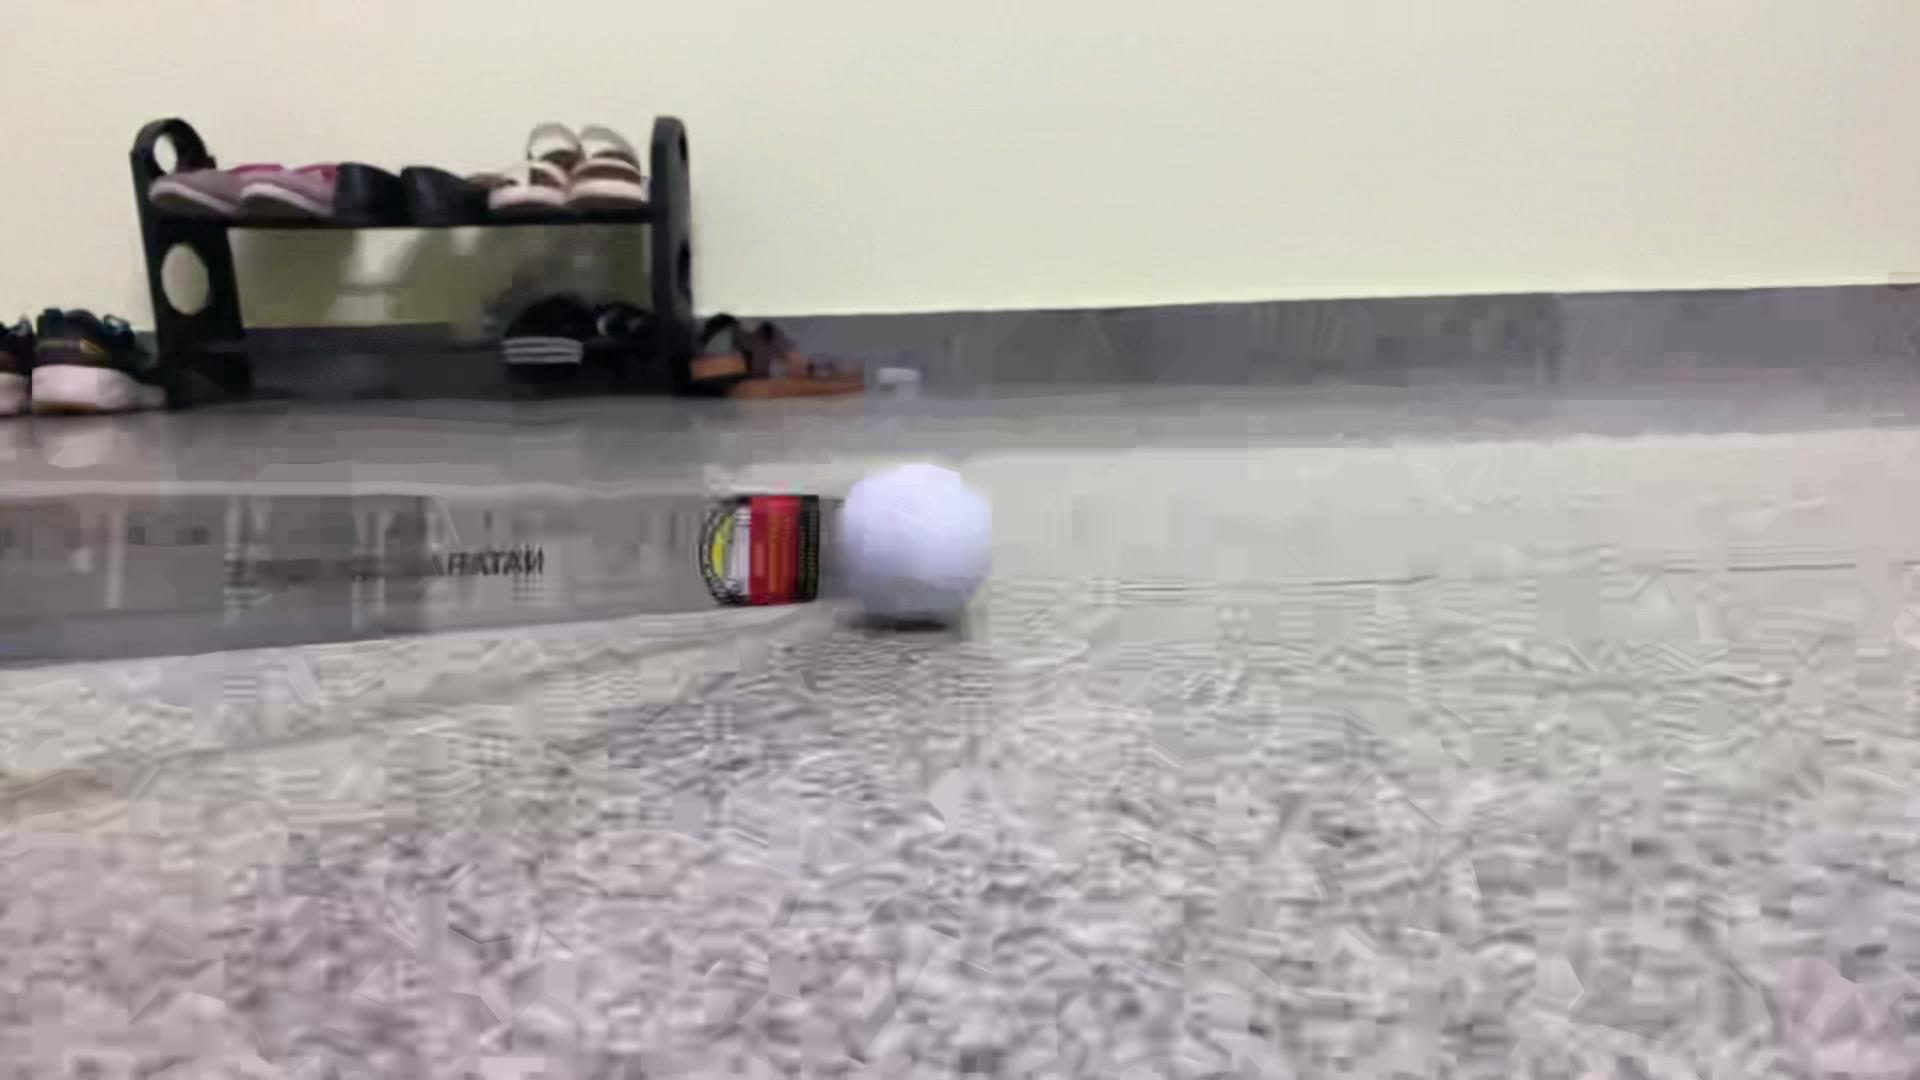golfball: (832, 462, 995, 620)
